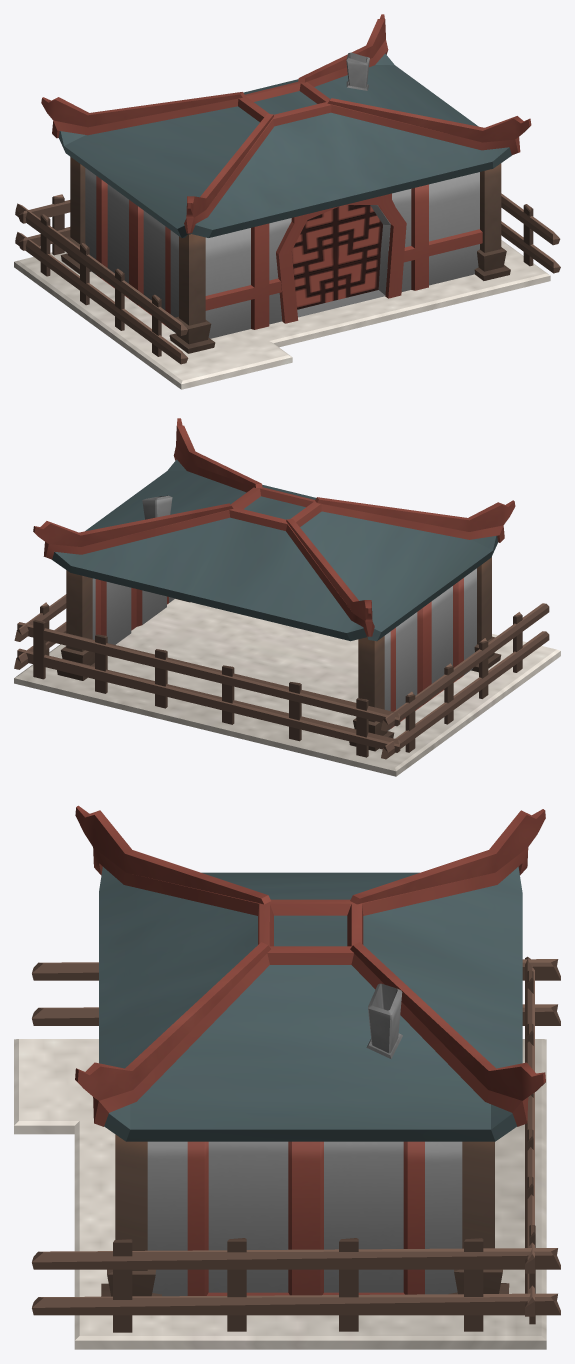
File: Blacksmith_2lvl.fbx
The picture shows the model from 3 angles, top to bottom: view 1: azimuth 30°, elevation 25°; view 2: azimuth 150°, elevation 25°; view 3: azimuth 270°, elevation 25°; orthographic projection. The views are drawn at different scales.
Parts seen in each view (by area): view 1: blacksmith_2lvl_color; view 2: blacksmith_2lvl_color; view 3: blacksmith_2lvl_color.
Boxes of the visible parts, x1,y1,x2,y2 form: blacksmith_2lvl_color: [14, 14, 560, 389]; blacksmith_2lvl_color: [14, 418, 560, 776]; blacksmith_2lvl_color: [14, 805, 560, 1349].
Bounding box in the file's own units: 6.01 × 2.64 × 4.6.
